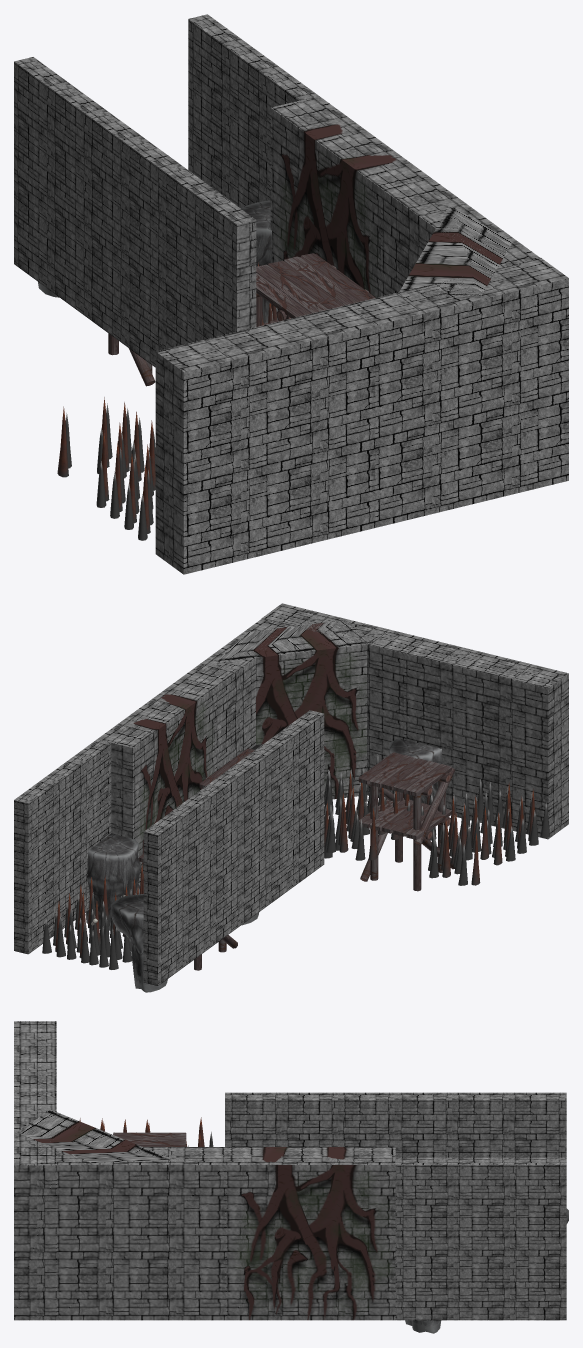
File: testStage3.fbx
3 renders of one model, top to bottom at view 1: azimuth 30°, elevation 25°; view 2: azimuth 150°, elevation 25°; view 3: azimuth 270°, elevation 25°, orthographic. The views are drawn at different scales.
Parts seen in each view (by area): view 1: wall1, wall2, wall8, wall7, wall5, wall6, wall4, wall3, needle_L20, Scaffolding_rectangle1, rock_low2; view 2: wall1, wall8, wall3, wall6, wall7, needle_L20, wall5, Scaffolding_square1, wall2, wall4, rock_low2, rock_low (+1 smaller); view 3: wall5, wall4, wall6, wall8, wall7, wall2, wall3, wall1, Scaffolding_square1.
Part boxes in pixels (x1=…): wall1: x1=155, y1=304, x2=377, y2=574; wall2: x1=349, y1=257, x2=568, y2=527; wall8: x1=14, y1=57, x2=144, y2=345; wall7: x1=125, y1=138, x2=256, y2=367; wall5: x1=270, y1=96, x2=428, y2=310; wall6: x1=188, y1=14, x2=318, y2=208; wall4: x1=381, y1=176, x2=539, y2=296; wall3: x1=399, y1=205, x2=512, y2=298; needle_L20: x1=57, y1=262, x2=277, y2=540; Scaffolding_rectangle1: x1=256, y1=253, x2=375, y2=326; rock_low2: x1=241, y1=200, x2=273, y2=323; wall1: x1=404, y1=638, x2=568, y2=839; wall8: x1=143, y1=771, x2=241, y2=985; wall3: x1=215, y1=620, x2=373, y2=799; wall6: x1=14, y1=739, x2=111, y2=954; wall7: x1=227, y1=710, x2=324, y2=924; needle_L20: x1=42, y1=754, x2=549, y2=969; wall5: x1=97, y1=678, x2=215, y2=885; Scaffolding_square1: x1=358, y1=752, x2=455, y2=891; wall2: x1=261, y1=603, x2=424, y2=797; wall4: x1=180, y1=618, x2=294, y2=771; rock_low2: x1=85, y1=833, x2=141, y2=930; rock_low: x1=111, y1=894, x2=167, y2=992; wall5: x1=224, y1=1147, x2=395, y2=1320; wall4: x1=55, y1=1147, x2=226, y2=1320; wall6: x1=395, y1=1157, x2=566, y2=1320; wall8: x1=395, y1=1092, x2=566, y2=1157; wall7: x1=225, y1=1092, x2=395, y2=1156; wall2: x1=14, y1=1093, x2=56, y2=1320; wall3: x1=16, y1=1110, x2=173, y2=1163; wall1: x1=14, y1=1021, x2=56, y2=1092; Scaffolding_square1: x1=113, y1=1132, x2=186, y2=1146.
Bounding box in the file's own units: 61.2 × 36 × 97.21.
